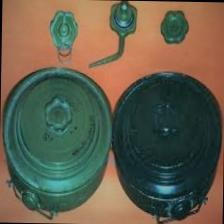TM-46: (0, 59, 111, 217), (111, 64, 224, 219)
